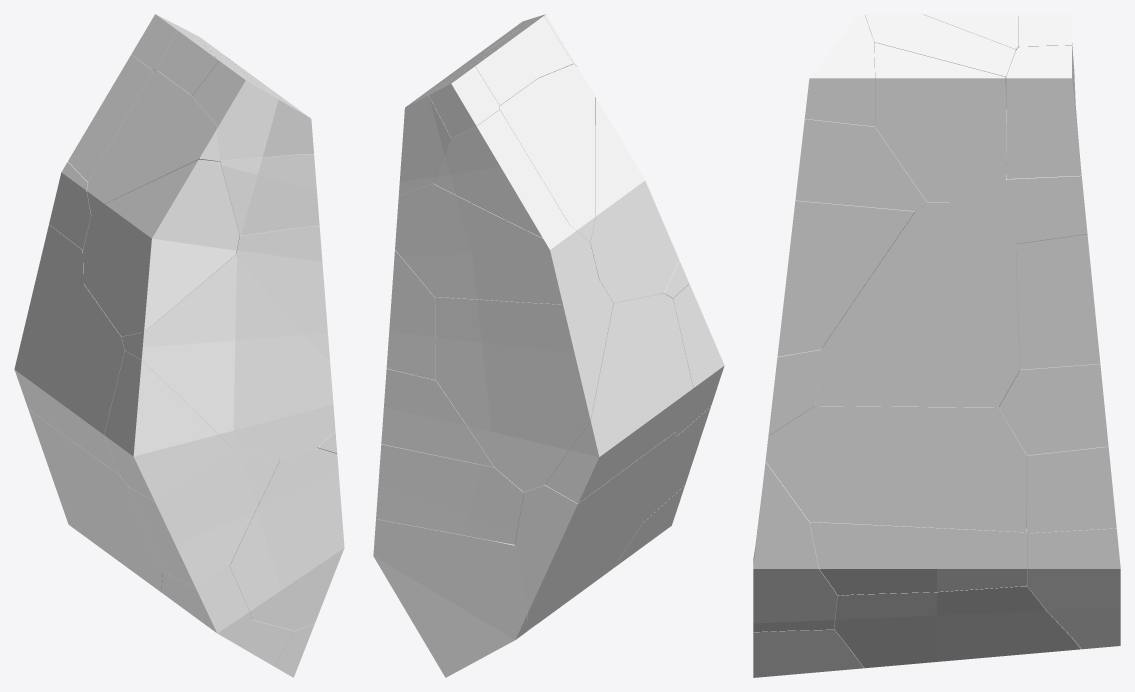
Rendered from Charcoal_2_broken.fbx.
3 views of the same model, side by side, from view 1: azimuth 30°, elevation 25°; view 2: azimuth 150°, elevation 25°; view 3: azimuth 270°, elevation 25° (orthographic). The views are drawn at different scales.
Visible parts, largest first — view 1: charcoal_2_cell.011, charcoal_2_cell.001, charcoal_2_cell.017, charcoal_2_cell.018, charcoal_2_cell.002, charcoal_2_cell.008, charcoal_2_cell.027, charcoal_2_cell.028, charcoal_2_cell.003, charcoal_2_cell.026, charcoal_2_cell.013, charcoal_2_cell.015 (+8 smaller); view 2: charcoal_2_cell.006, charcoal_2_cell.022, charcoal_2_cell, charcoal_2_cell.018, charcoal_2_cell.028, charcoal_2_cell.029, charcoal_2_cell.001, charcoal_2_cell.027, charcoal_2_cell.007, charcoal_2_cell.012, charcoal_2_cell.009, charcoal_2_cell.008 (+6 smaller); view 3: charcoal_2_cell.004, charcoal_2_cell.014, charcoal_2_cell.020, charcoal_2_cell.005, charcoal_2_cell.025, charcoal_2_cell.003, charcoal_2_cell.009, charcoal_2_cell, charcoal_2_cell.017, charcoal_2_cell.021, charcoal_2_cell.026, charcoal_2_cell.012 (+8 smaller).
Boxes of the visible parts, box(x1,y1,x2,y2) form: charcoal_2_cell.011: box(121, 254, 335, 459); charcoal_2_cell.001: box(83, 159, 239, 336); charcoal_2_cell.017: box(229, 448, 344, 630); charcoal_2_cell.018: box(14, 283, 124, 475); charcoal_2_cell.002: box(128, 450, 279, 587); charcoal_2_cell.008: box(104, 351, 232, 501); charcoal_2_cell.027: box(87, 70, 220, 214); charcoal_2_cell.028: box(28, 409, 162, 592); charcoal_2_cell.003: box(236, 225, 329, 361); charcoal_2_cell.026: box(220, 154, 319, 235); charcoal_2_cell.013: box(216, 79, 313, 160); charcoal_2_cell.015: box(161, 566, 252, 643); charcoal_2_cell.006: box(435, 280, 613, 492); charcoal_2_cell.022: box(395, 183, 598, 304); charcoal_2_cell: box(373, 519, 527, 677); charcoal_2_cell.018: box(545, 293, 693, 503); charcoal_2_cell.028: box(514, 432, 676, 629); charcoal_2_cell.029: box(376, 444, 523, 544); charcoal_2_cell.001: box(590, 97, 678, 302); charcoal_2_cell.027: box(499, 64, 595, 242); charcoal_2_cell.007: box(433, 110, 569, 238); charcoal_2_cell.012: box(381, 368, 493, 467); charcoal_2_cell.009: box(386, 250, 435, 380); charcoal_2_cell.008: box(673, 284, 724, 435); charcoal_2_cell.004: box(815, 202, 1019, 407); charcoal_2_cell.014: box(765, 406, 1026, 532); charcoal_2_cell.020: box(874, 42, 1006, 202); charcoal_2_cell.005: box(834, 585, 1080, 668); charcoal_2_cell.025: box(809, 522, 1026, 595); charcoal_2_cell.003: box(777, 200, 914, 356); charcoal_2_cell.009: box(1016, 234, 1100, 369); charcoal_2_cell: box(1026, 512, 1120, 649); charcoal_2_cell.017: box(753, 461, 837, 631); charcoal_2_cell.021: box(1006, 45, 1081, 178); charcoal_2_cell.026: box(795, 119, 927, 211); charcoal_2_cell.012: box(999, 364, 1108, 455).
Bounding box in the file's own units: 151 × 419 × 211.
